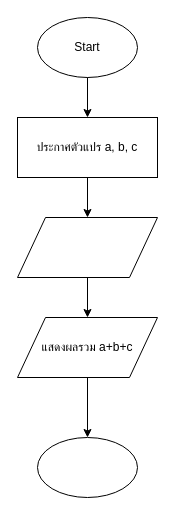
Image size: 175x515. Some labels were removed from this diagram. Each missing label, with the box of its shape:
Stop: (36, 436, 138, 498)
รับค่า a, b, c: (16, 216, 158, 278)
